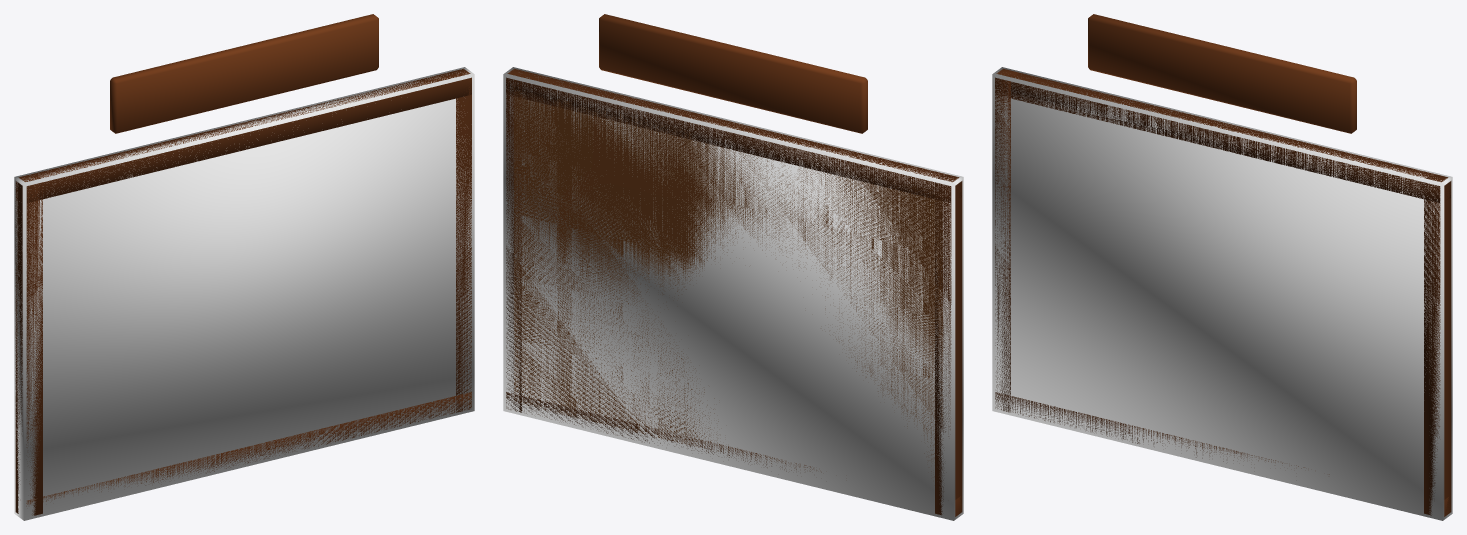
File: corcho_encargos.glb
The picture shows the model from 3 angles, left to right: view 1: azimuth 30°, elevation 25°; view 2: azimuth 150°, elevation 25°; view 3: azimuth 330°, elevation 25°; orthographic projection.
Visible parts, largest first — view 1: corcho-colcaja, corcho; view 2: corcho-colcaja, corcho; view 3: corcho-colcaja, corcho.
Part boxes in pixels (x1,y1,x2,y2): corcho-colcaja: [14, 67, 474, 520]; corcho: [15, 14, 471, 515]; corcho-colcaja: [503, 67, 963, 520]; corcho: [506, 14, 962, 516]; corcho-colcaja: [992, 67, 1452, 520]; corcho: [995, 14, 1451, 516].
Bounding box in the file's own units: 1.05 × 0.925 × 0.04.
